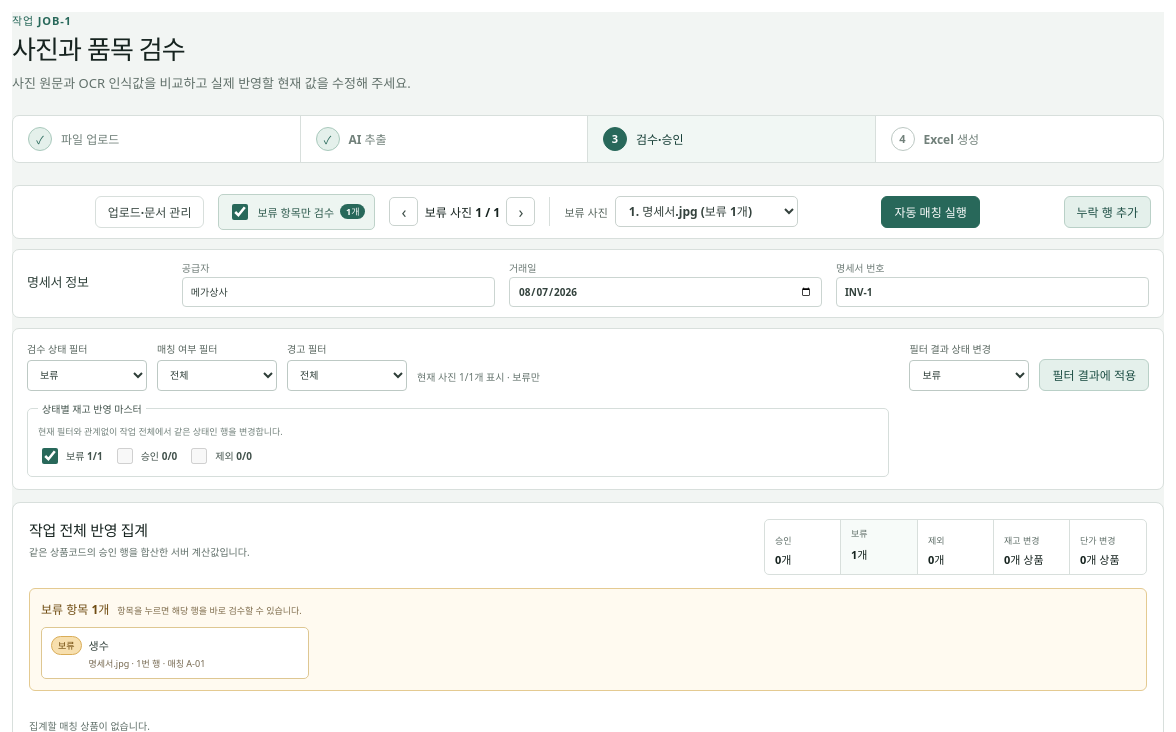
Test case: 사진과 품목 검수 › 누락된 품목을 수기 행으로 추가한다
Click the button "누락 행 추가" at (1107, 212), box [1064, 196, 1151, 228]
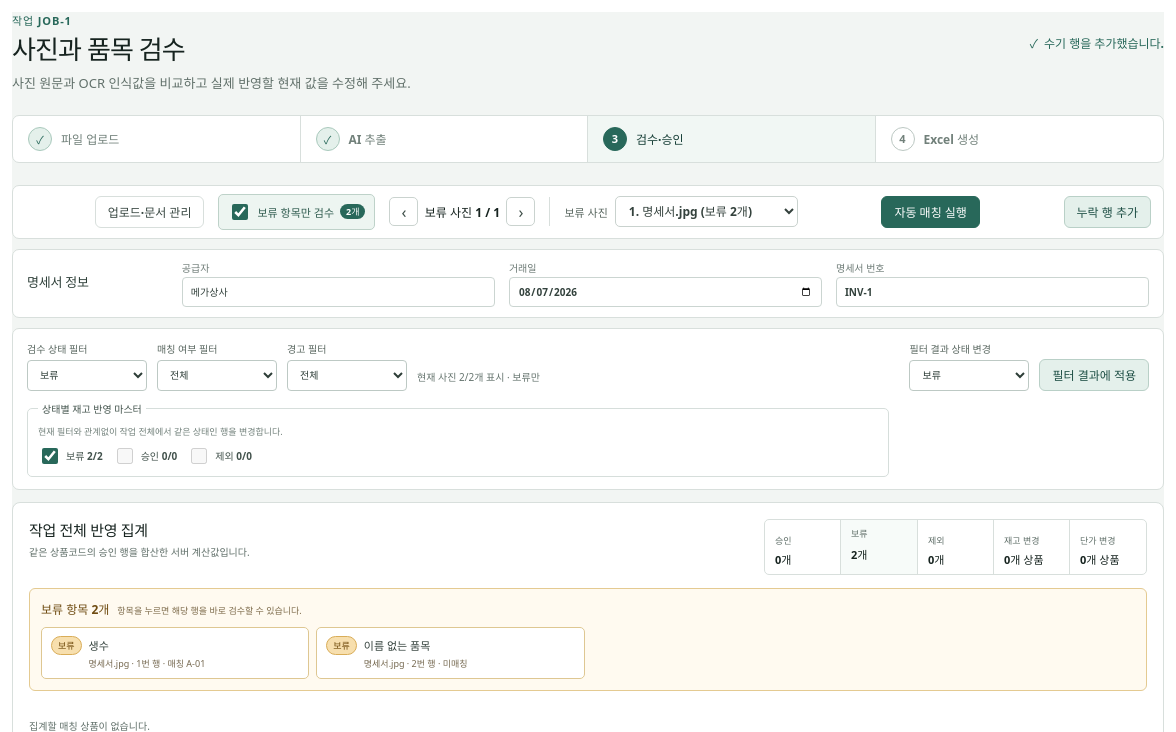
Now the text "수기 행을 추가했습니다." is shown, box [1030, 34, 1164, 52]
Now the element named "보류 항목 바로가기" shows "보류 항목 2개", box [29, 588, 1147, 691]
